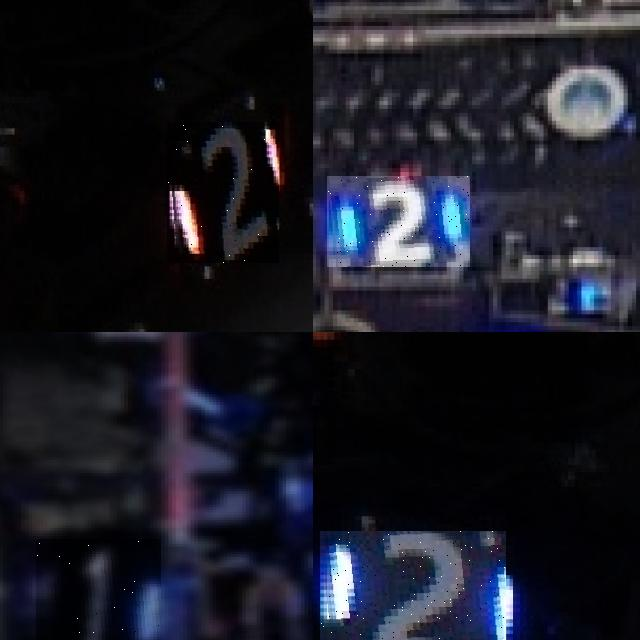B1: (36, 538, 161, 640)
B2: (320, 531, 506, 640), (327, 176, 470, 267)
R2: (167, 122, 279, 263)
